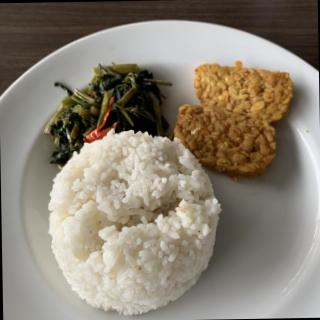Nasi: (51, 130, 222, 317)
